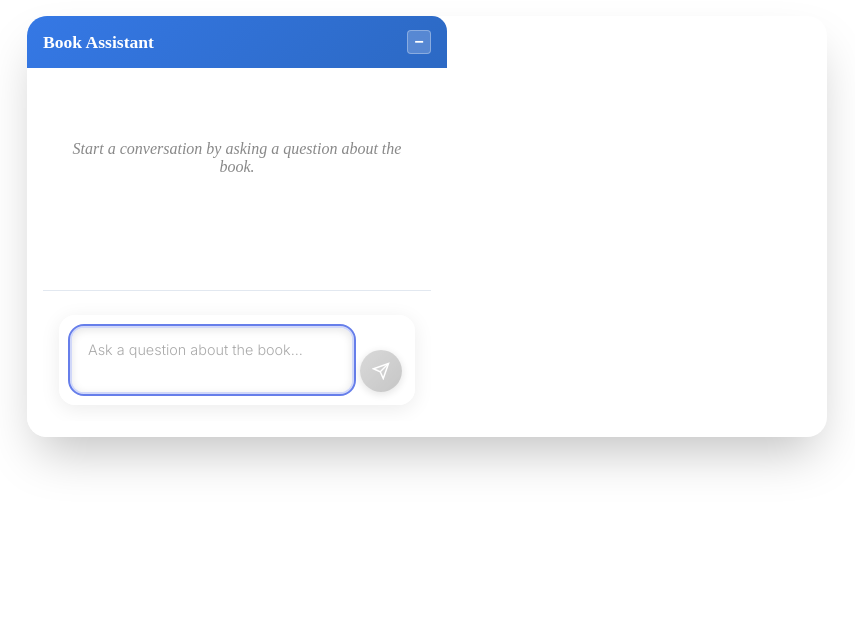
Scenario: End-to-End Tests: All User Stories › User Story 1: Query Book Content via Chatbot (P1) › response is clearly formatted and distinguishable from user input
The image size is (855, 644).
# Submit a query
In the field with placeholder "Ask a question about the book...": (212, 360) top-left (72, 328), bottom-right (352, 392), type "Test query"
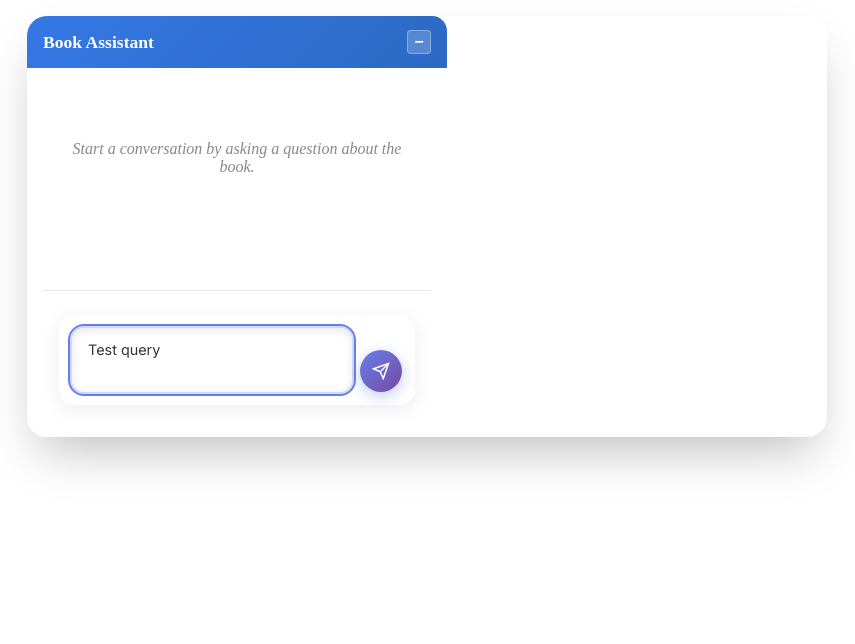
Click the button named "Send message": (381, 371) top-left (360, 350), bottom-right (402, 392)
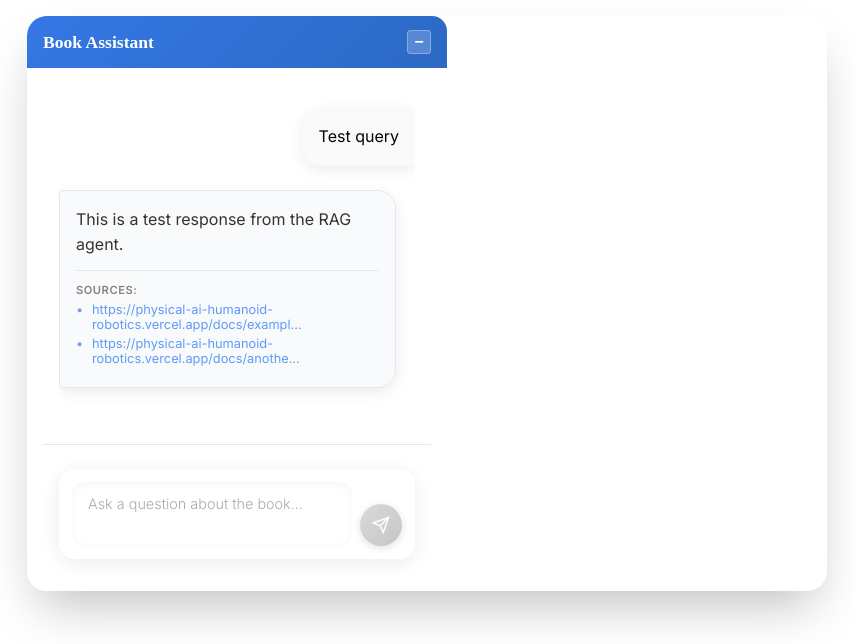
Now the text "Test query" is shown, box top-left (319, 124), bottom-right (399, 150)
Now the text "This is a test response from the RAG agent." is shown, box top-left (76, 207), bottom-right (379, 258)
